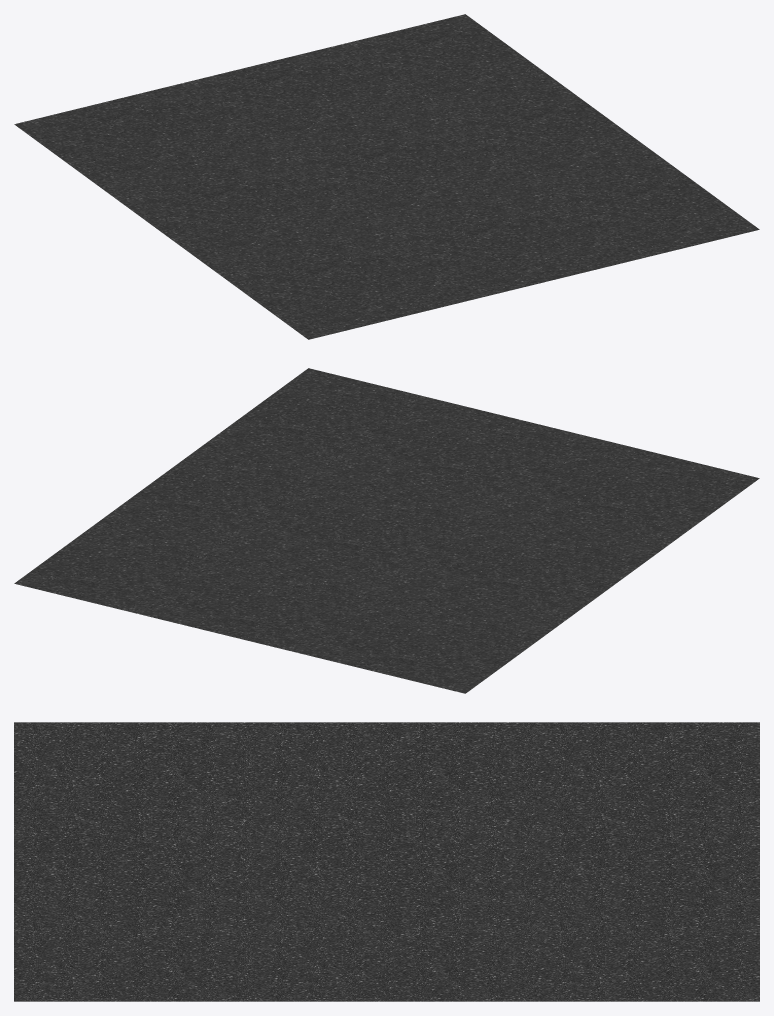
File: road.glb
The picture shows the model from 3 angles, top to bottom: view 1: azimuth 30°, elevation 25°; view 2: azimuth 150°, elevation 25°; view 3: azimuth 270°, elevation 25°; orthographic projection. The views are drawn at different scales.
Parts seen in each view (by area): view 1: Plane; view 2: Plane; view 3: Plane.
Boxes of the visible parts, x1,y1,x2,y2 form: Plane: [14, 14, 759, 339]; Plane: [14, 368, 759, 693]; Plane: [14, 722, 759, 1001].
Size of the model in its own units: 466 by 0 by 526.
Materials: 1 (1 with a texture image).
